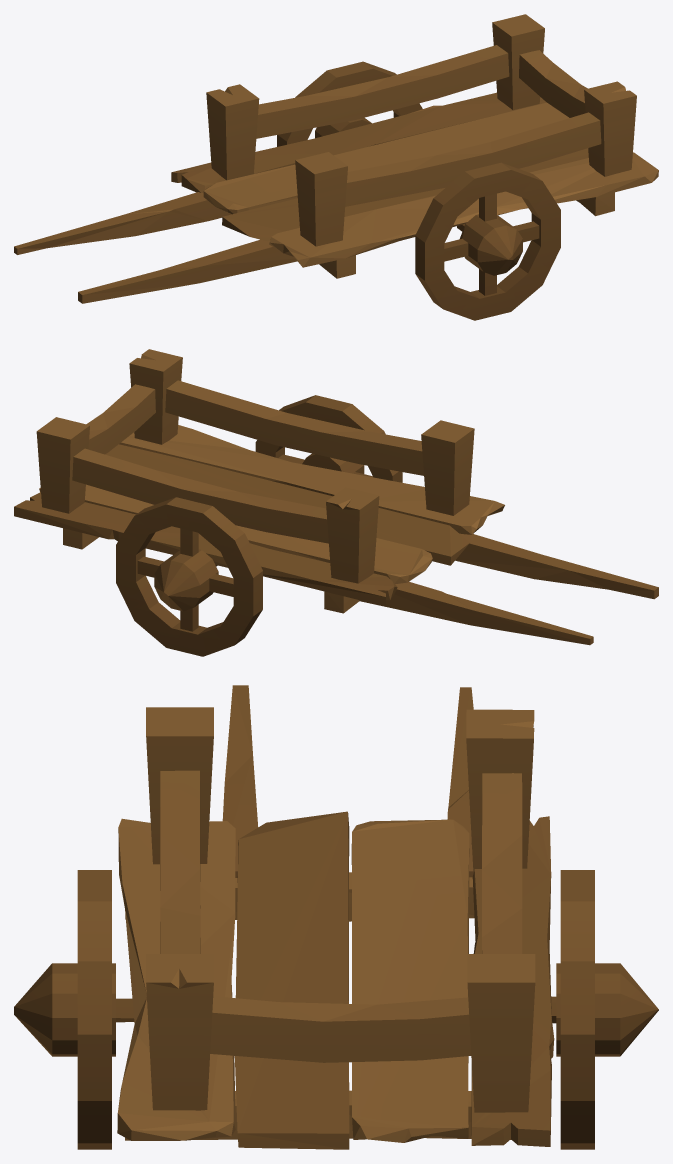
The model's file is Cart_01.fbx.
3 renders of one model, top to bottom at view 1: azimuth 30°, elevation 25°; view 2: azimuth 150°, elevation 25°; view 3: azimuth 270°, elevation 25°, orthographic. The views are drawn at different scales.
Parts seen in each view (by area): view 1: Cart_01; view 2: Cart_01; view 3: Cart_01.
Boxes of the visible parts, x1,y1,x2,y2 form: Cart_01: (14, 14, 658, 320); Cart_01: (14, 349, 658, 656); Cart_01: (14, 685, 658, 1149).
Bounding box in the file's own units: 303 × 87.46 × 176.
